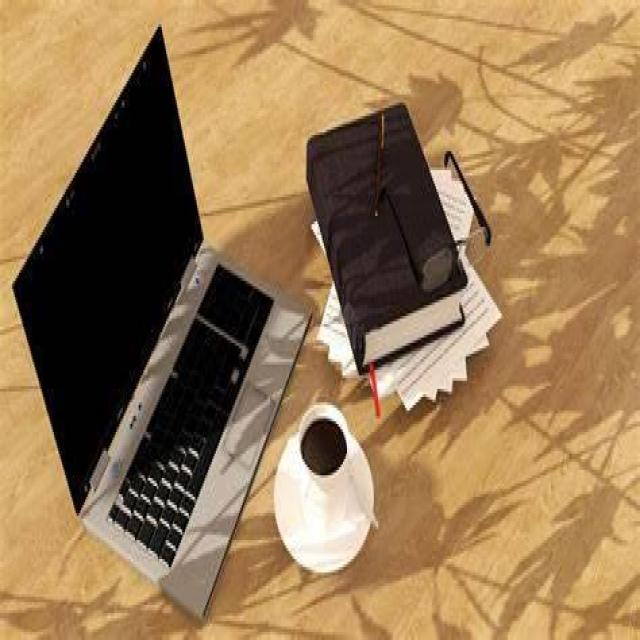paper: (305, 100, 503, 416)
